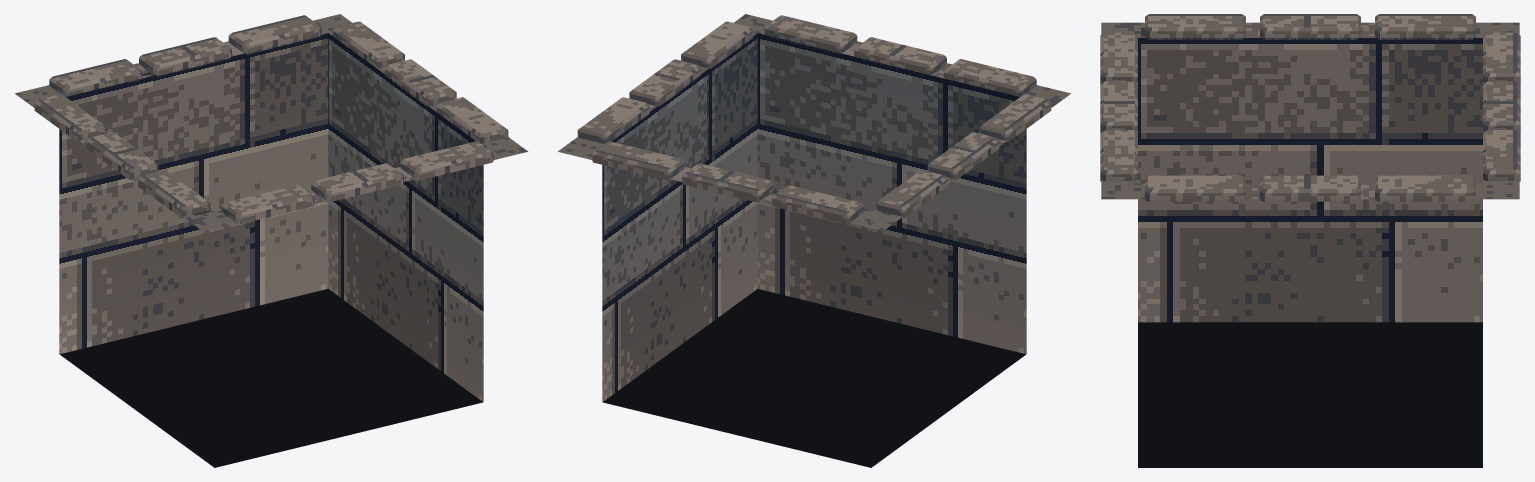
File: dgn.pit__full.glb
3 views of the same model, side by side, from view 1: azimuth 30°, elevation 25°; view 2: azimuth 150°, elevation 25°; view 3: azimuth 270°, elevation 25° (orthographic). The views are drawn at different scales.
Visible parts, largest first — view 1: kit_shell_shaft, kit_card_void, kit_rim, kit_shell_floor; view 2: kit_shell_shaft, kit_card_void, kit_rim, kit_shell_floor; view 3: kit_shell_shaft, kit_card_void, kit_rim, kit_shell_floor.
Boxes of the visible parts, x1,y1,x2,y2 form: kit_shell_shaft: (59,33,483,401); kit_card_void: (60,289,482,467); kit_rim: (34,15,508,224); kit_shell_floor: (15,14,527,230); kit_shell_shaft: (602,33,1026,401); kit_card_void: (603,289,1025,467); kit_rim: (577,15,1051,224); kit_shell_floor: (558,14,1070,230); kit_shell_shaft: (1138,38,1482,322); kit_card_void: (1138,322,1482,467); kit_rim: (1100,14,1520,201); kit_shell_floor: (1101,22,1519,199).
Bounding box in the file's own units: 4.02 × 3.1 × 4.02.
Materials: 4 (4 with a texture image).
